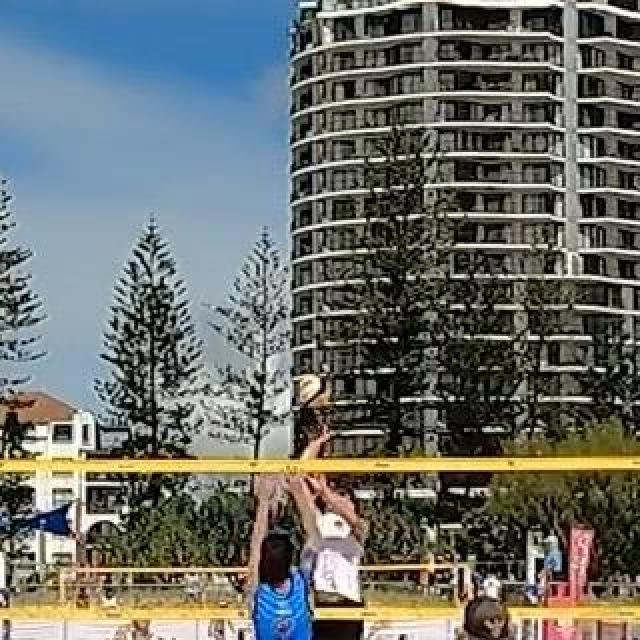volleyball: (297, 374, 329, 408)
